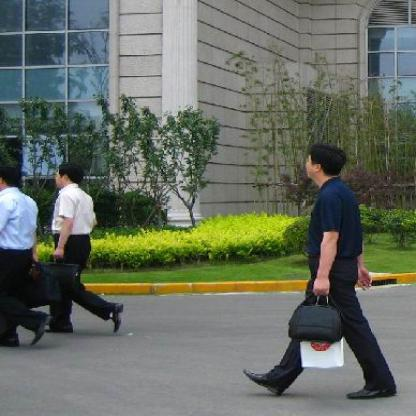person: (241, 141, 401, 405), (41, 162, 129, 337)
